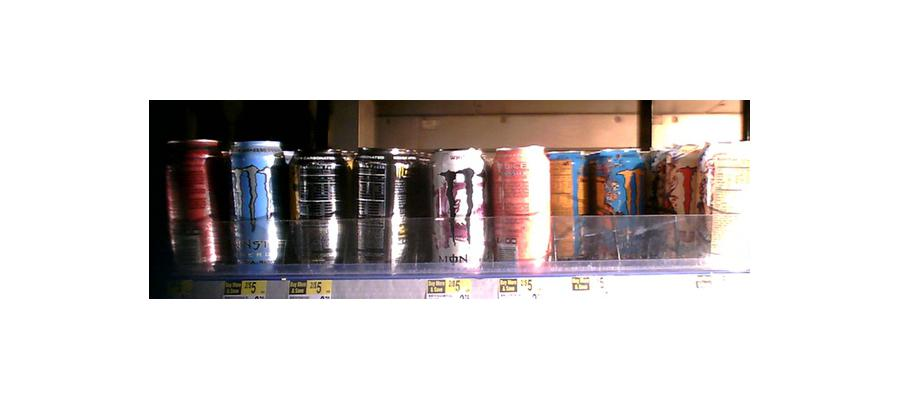bottle: (224, 141, 284, 274), (164, 135, 222, 271), (287, 148, 344, 274), (428, 148, 485, 270), (490, 151, 546, 268), (656, 139, 707, 261), (594, 145, 646, 260), (348, 152, 396, 271), (554, 153, 592, 260)
